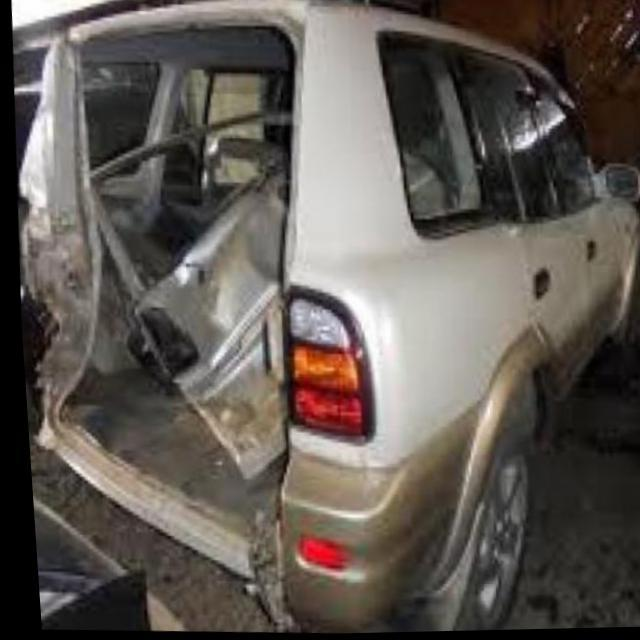no part: (23, 14, 301, 633)
